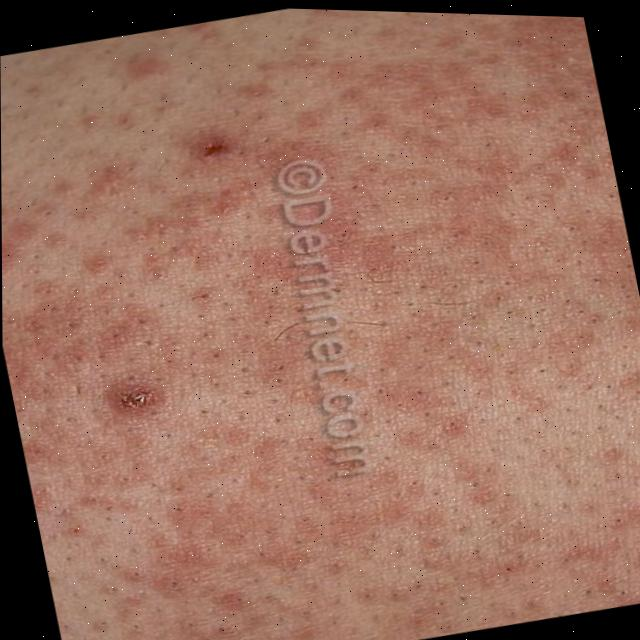Eczema: (0, 10, 640, 640)
